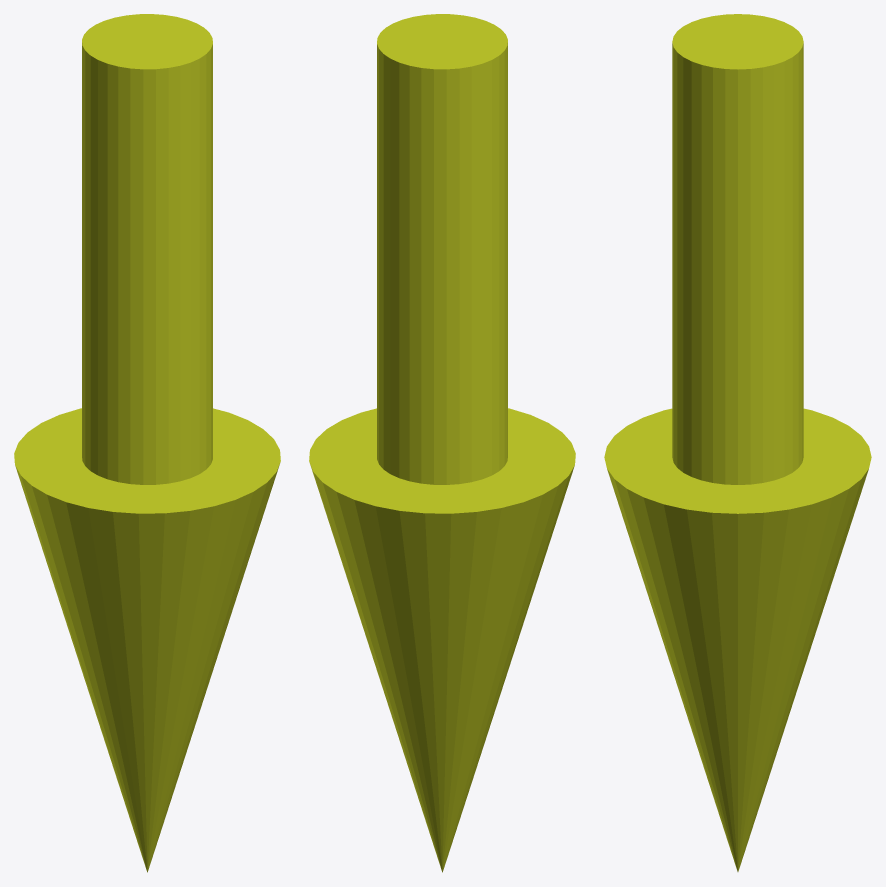
File: Arrow.fbx
The picture shows the model from 3 angles, left to right: view 1: azimuth 30°, elevation 25°; view 2: azimuth 150°, elevation 25°; view 3: azimuth 270°, elevation 25°; orthographic projection.
Parts seen in each view (by area): view 1: Cone; view 2: Cone; view 3: Cone.
Part boxes in pixels (box(x1,y1,x2,y2)): Cone: box(14, 14, 280, 872); Cone: box(309, 14, 575, 872); Cone: box(604, 14, 871, 871).
Size of the model in its own units: 0.2849 by 0.9775 by 0.2849.
